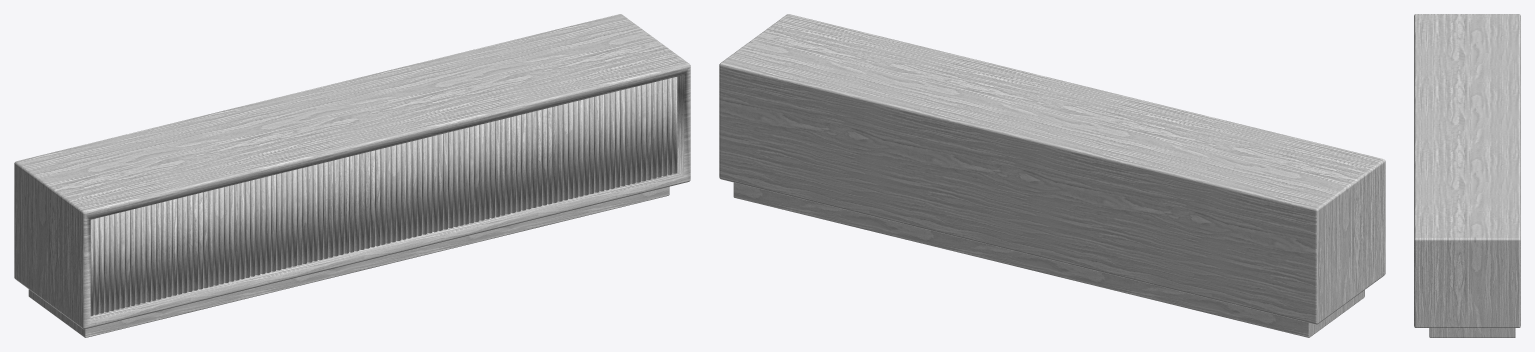
The model's file is tv-console-2.1m.gltf.
3 views of the same model, side by side, from view 1: azimuth 30°, elevation 25°; view 2: azimuth 150°, elevation 25°; view 3: azimuth 270°, elevation 25° (orthographic). The views are drawn at different scales.
Visible parts, largest first — view 1: tv-console; view 2: tv-console; view 3: tv-console.
Part boxes in pixels (box(x1,y1,x2,y2)): tv-console: box(14, 14, 690, 337); tv-console: box(719, 14, 1385, 337); tv-console: box(1414, 14, 1520, 337).
Size of the model in its own units: 2.1 by 0.45 by 0.4201.
Materials: 1 (1 with a texture image).
